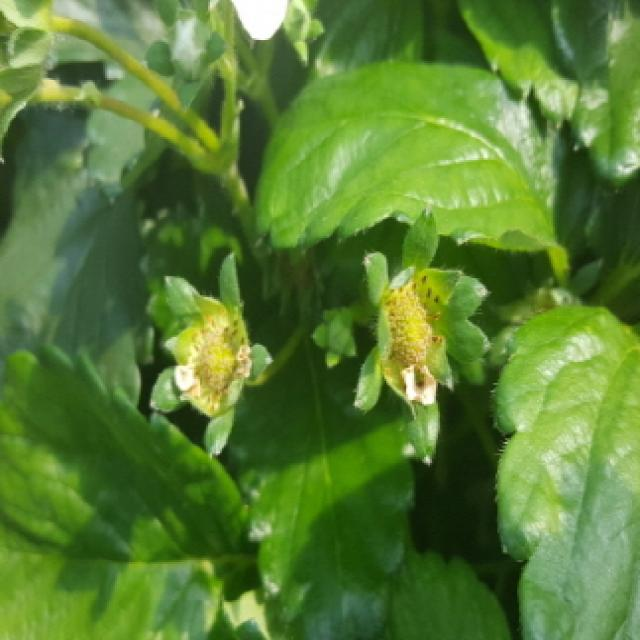Blossom Blight: (379, 276, 448, 391), (186, 313, 252, 411)
